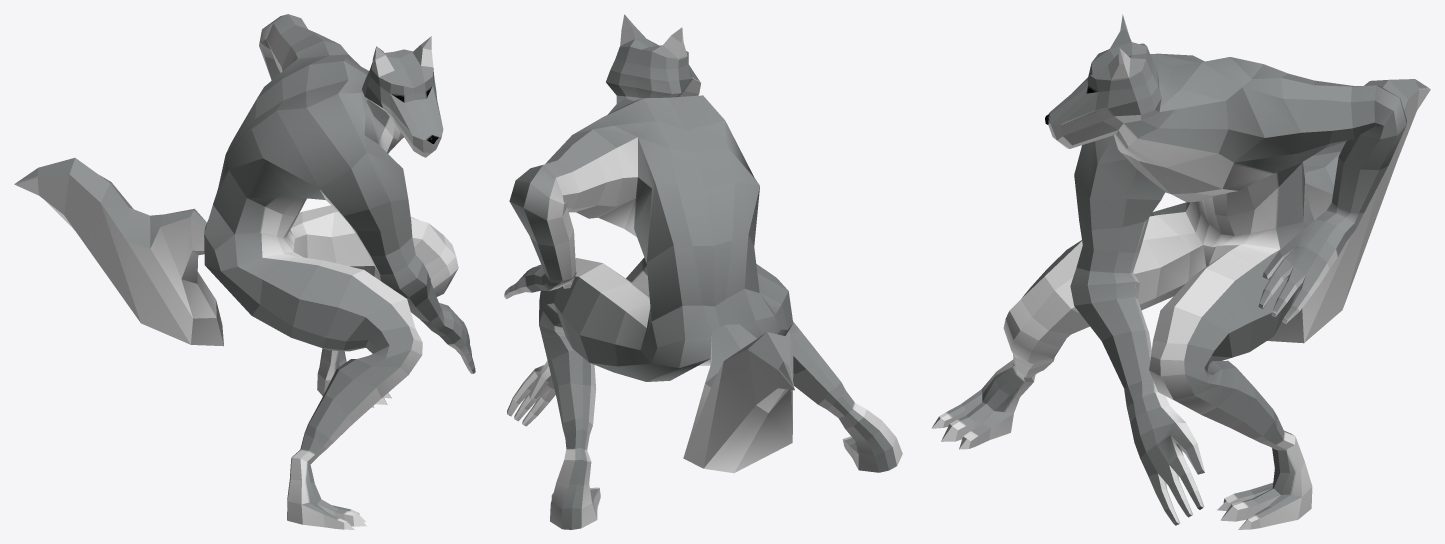
File: WolfAttack(42).obj
3 views of the same model, side by side, from view 1: azimuth 30°, elevation 25°; view 2: azimuth 150°, elevation 25°; view 3: azimuth 270°, elevation 25° (orthographic). The views are drawn at different scales.
Parts seen in each view (by area): view 1: Box001; view 2: Box001; view 3: Box001.
Boxes of the visible parts, x1,y1,x2,y2 form: Box001: (14,14,475,529); Box001: (504,14,902,529); Box001: (931,14,1430,529).
Size of the model in its own units: 98.31 by 107 by 100.
